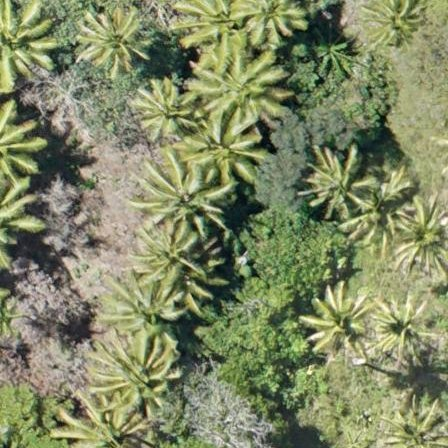palm_tree: (96, 325, 190, 426), (141, 155, 223, 242), (75, 1, 157, 84), (200, 40, 278, 122), (304, 281, 378, 360), (297, 146, 374, 220), (386, 196, 448, 278), (230, 1, 309, 54), (370, 293, 433, 359), (382, 397, 448, 448), (137, 78, 191, 137), (360, 1, 425, 49)
